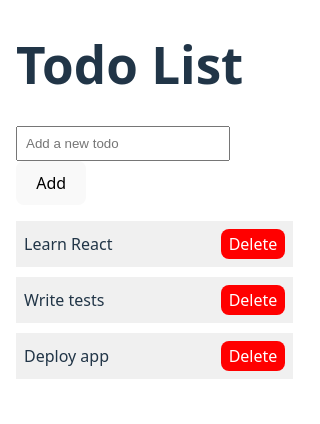
Scenario: TodoList › can add a new todo
In the field with test id "todo-input": (123, 144) [16, 126, 230, 161], type "New todo"
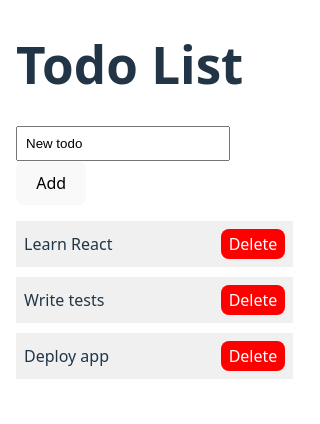
Click the button with test id "add-button": (51, 183) [16, 161, 86, 205]
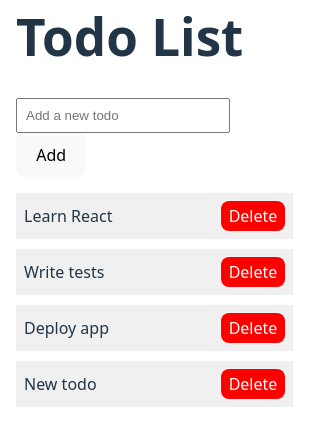
Expected: the text "New todo" is shown, [24, 372, 97, 394]
